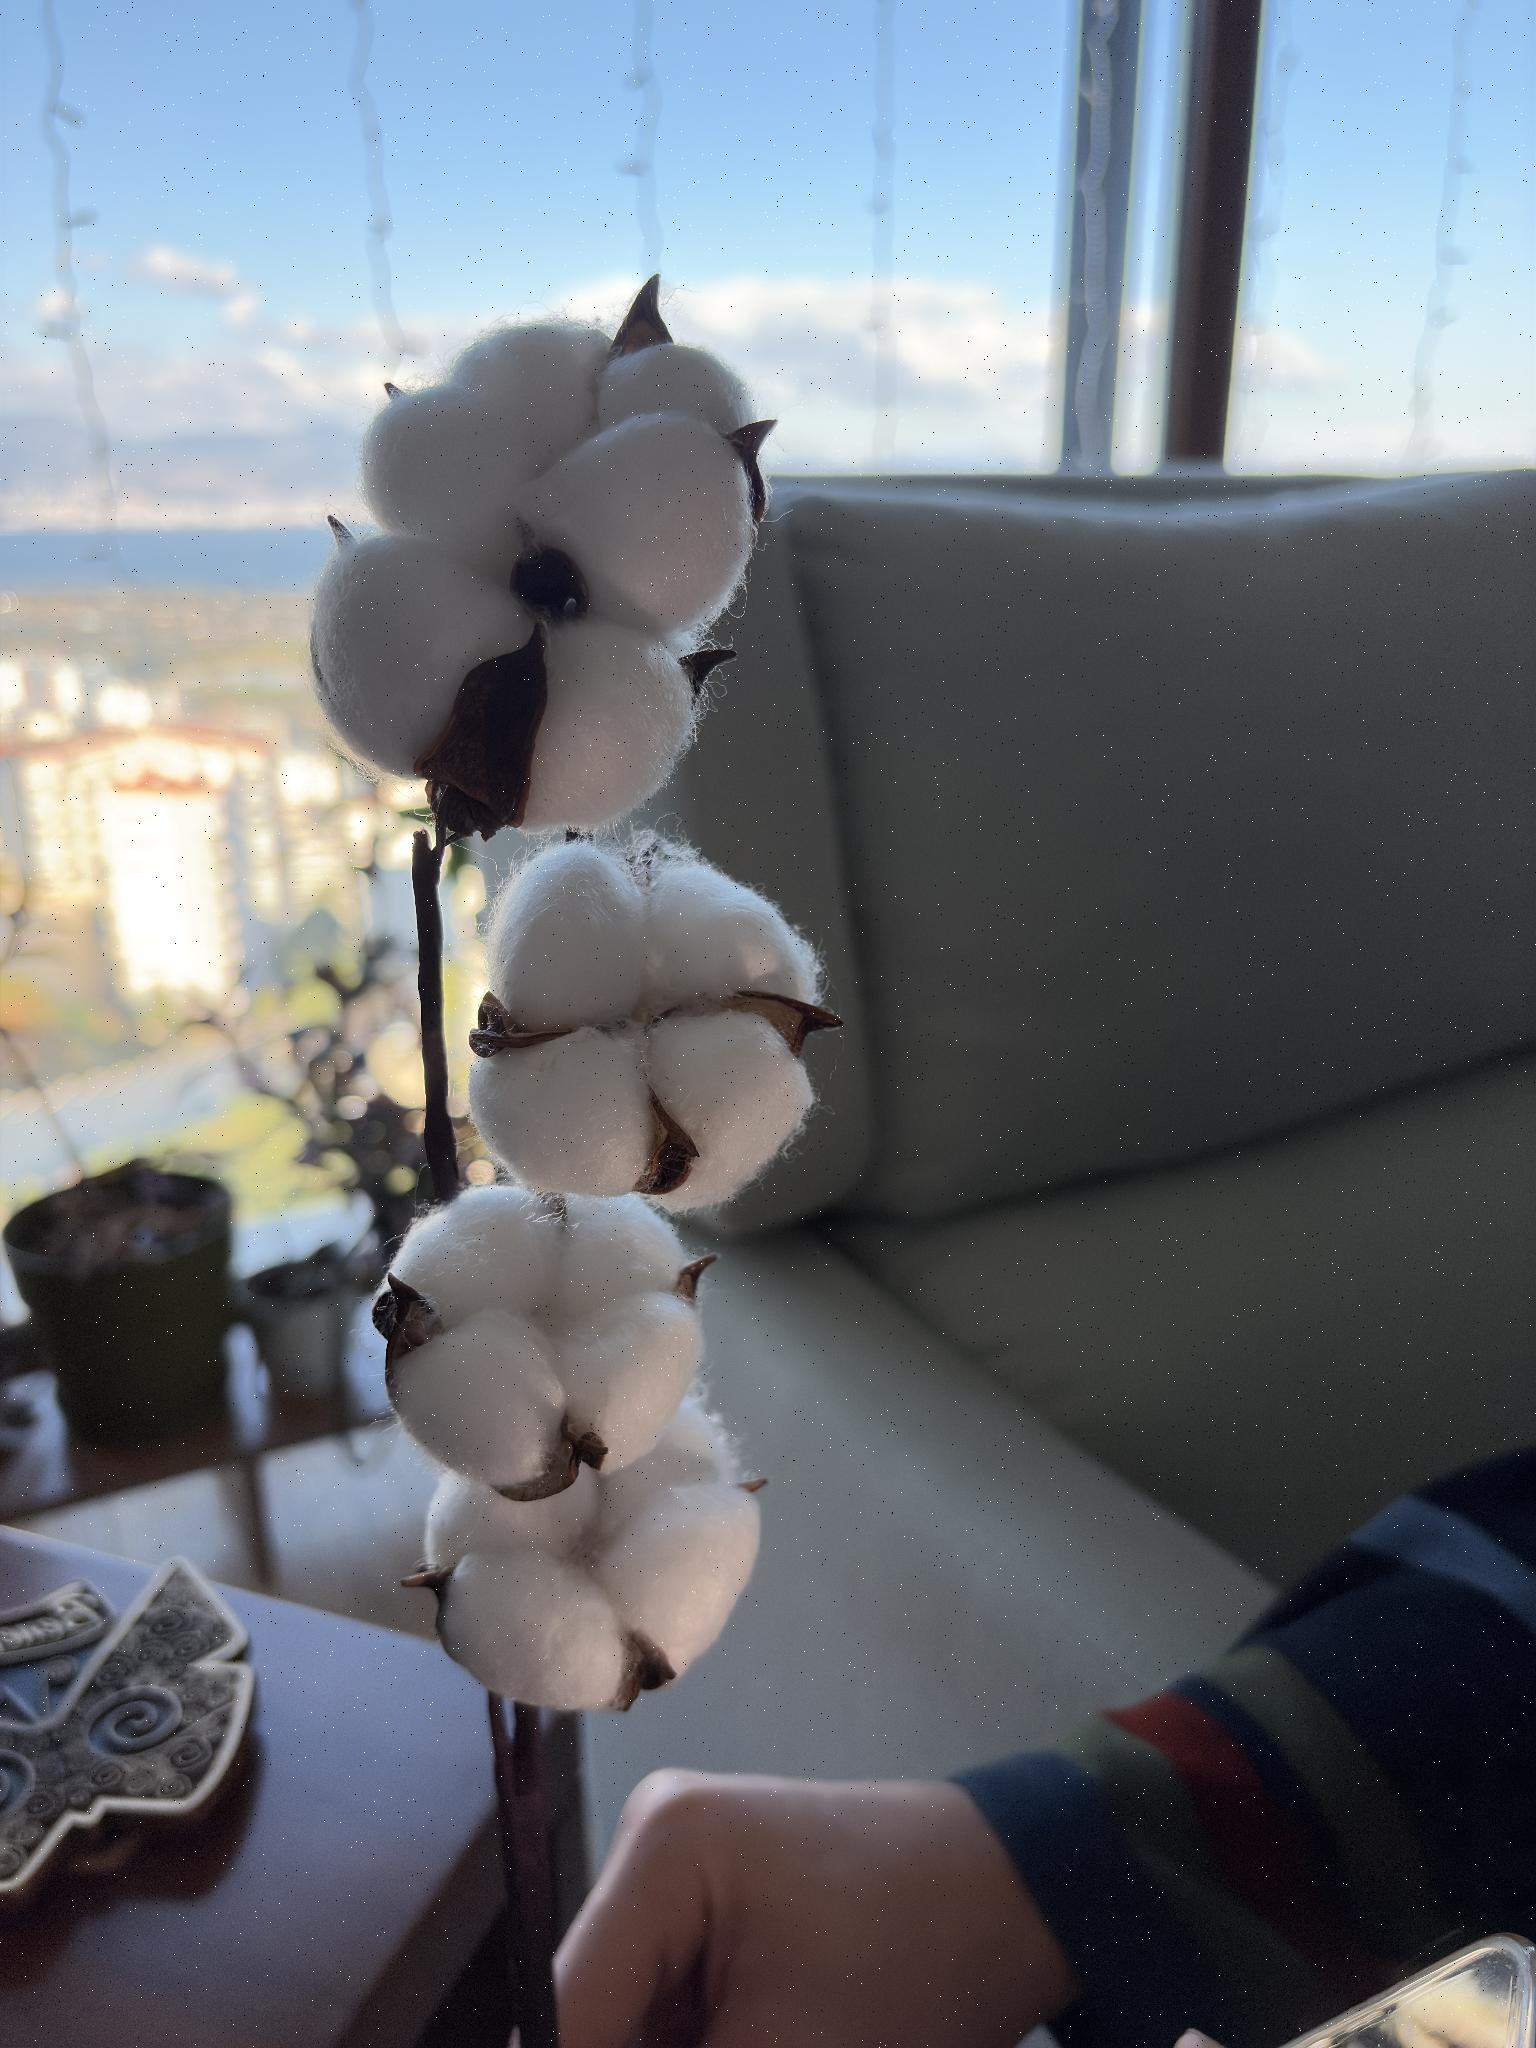cotton_boll: (518, 413, 757, 635), (311, 535, 534, 774), (511, 619, 697, 830), (397, 1309, 581, 1500), (649, 1011, 813, 1209), (595, 1482, 760, 1675), (470, 1027, 655, 1197), (439, 1546, 626, 1709), (490, 842, 645, 1030), (644, 853, 820, 1013), (361, 382, 529, 547), (558, 1290, 702, 1467), (394, 1187, 565, 1329), (450, 323, 610, 474), (426, 1472, 599, 1569), (555, 1197, 684, 1324), (605, 1400, 739, 1513), (597, 343, 762, 434), (607, 1206, 681, 1279)
cotton_boll-cluster: (289, 264, 786, 837), (465, 829, 834, 1197), (355, 1380, 762, 1706), (326, 1171, 718, 1501)
